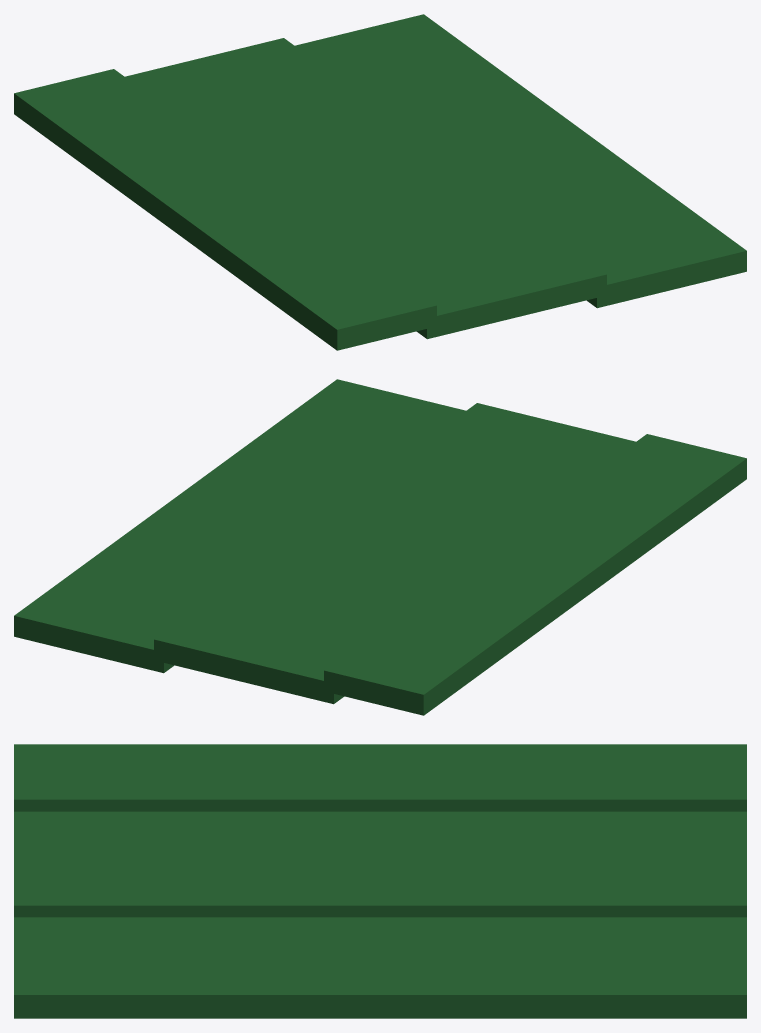
File: suv_bonnet.glb
3 renders of one model, top to bottom at view 1: azimuth 30°, elevation 25°; view 2: azimuth 150°, elevation 25°; view 3: azimuth 270°, elevation 25°, orthographic. The views are drawn at different scales.
Visible parts, largest first — view 1: body:compound; view 2: body:compound; view 3: body:compound.
Part boxes in pixels (bbox=[...]): body:compound: bbox=[14, 14, 746, 350]; body:compound: bbox=[14, 379, 746, 715]; body:compound: bbox=[14, 744, 746, 1018].
Size of the model in its own units: 1.28 by 0.125 by 1.75.
